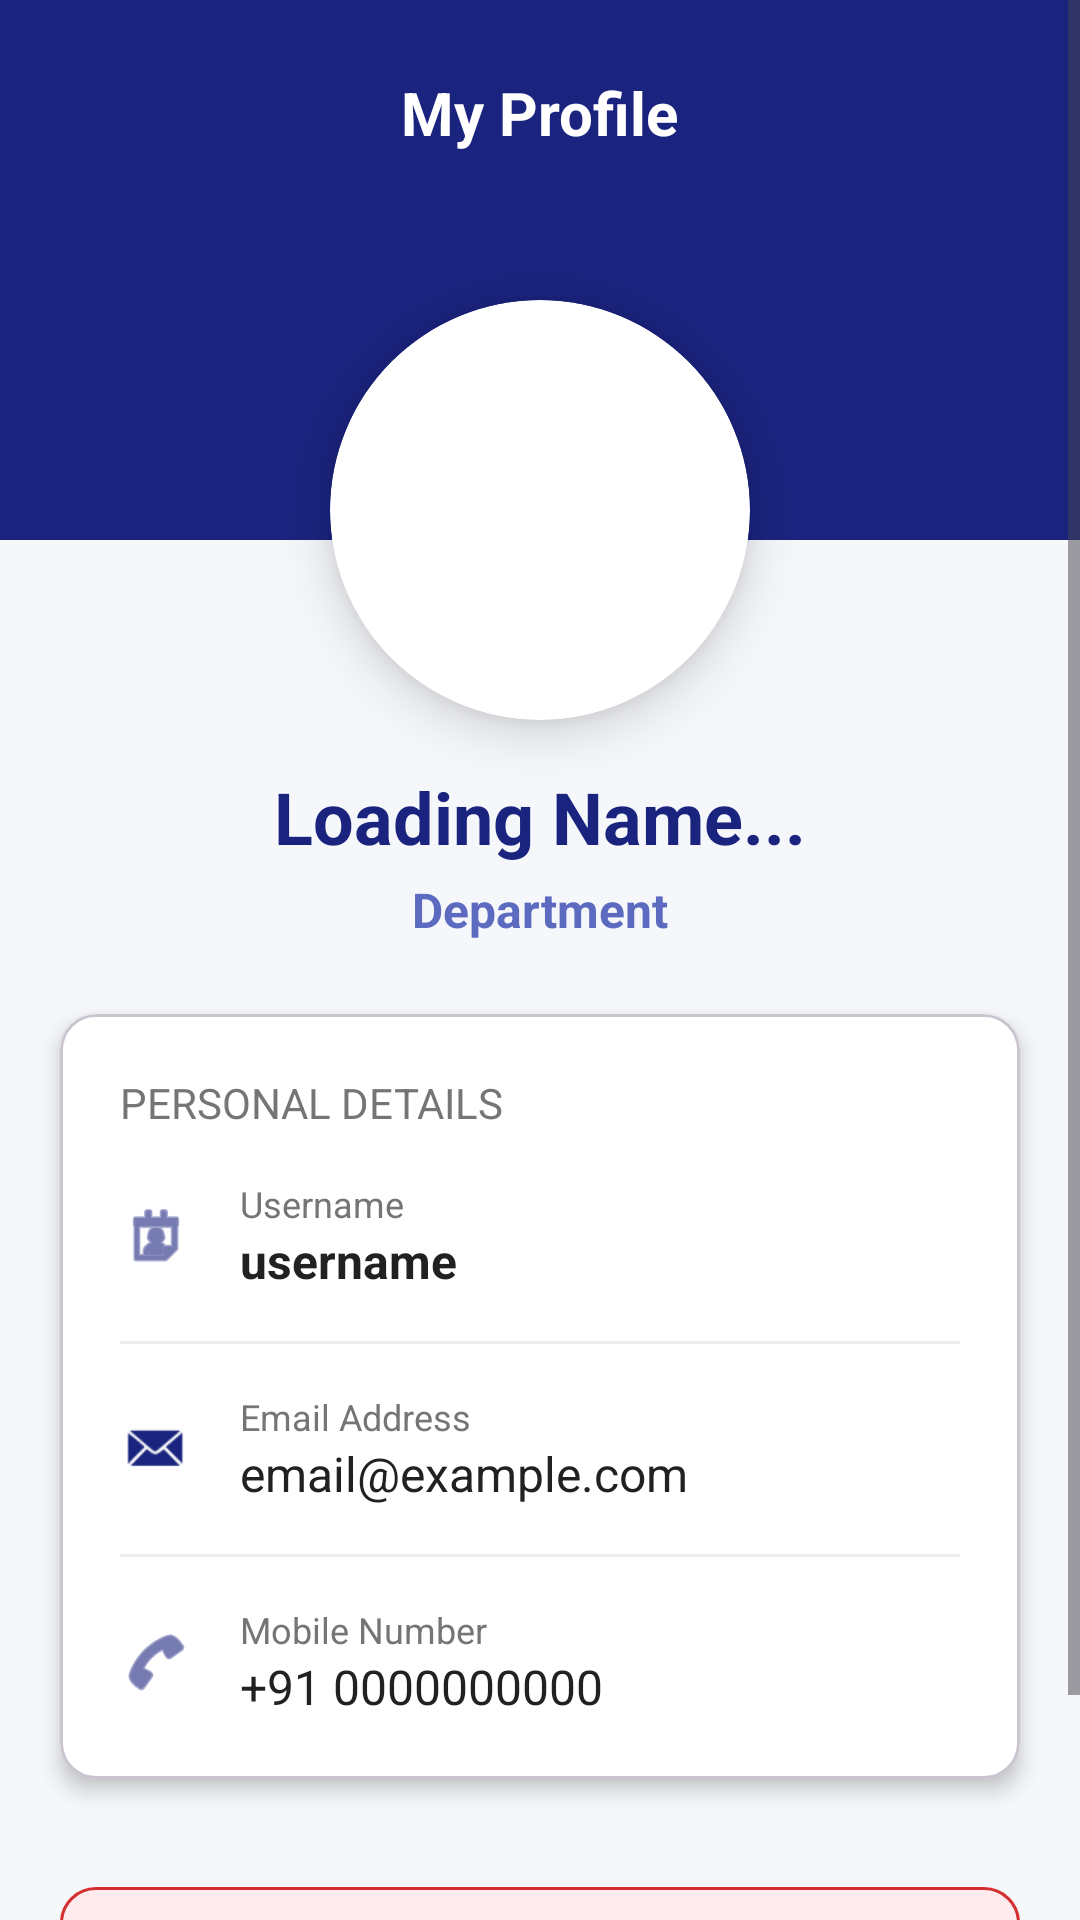

Named icons in this screenshot (1080 × 1920) and their bounding boxes, (x1,y1,x2,y2):
calendar: (133,1209,179,1262)
call: (128,1634,185,1691)
sym action email: (127,1430,183,1466)
